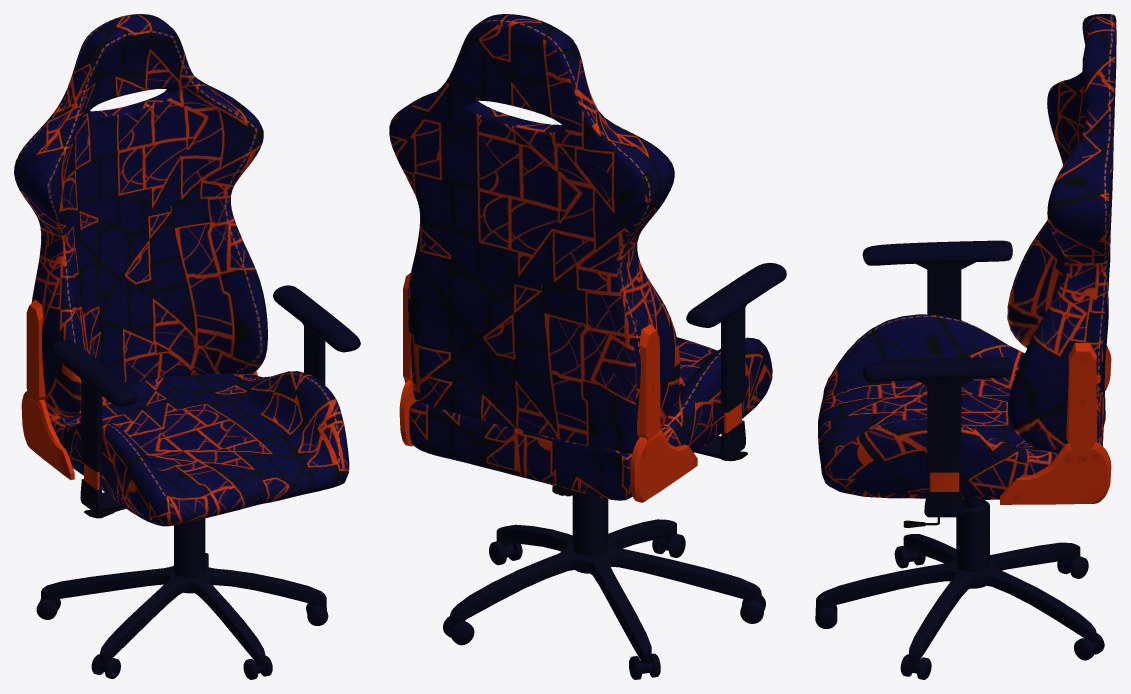
Rendered from pc_chair.glb.
3 renders of one model, left to right at view 1: azimuth 30°, elevation 25°; view 2: azimuth 150°, elevation 25°; view 3: azimuth 270°, elevation 25°, orthographic. The views are drawn at different scales.
Parts seen in each view (by area): view 1: Plane, Plane.001, Cylinder.001, Plane.008, Cube, Plane.002, Cylinder.004, Cylinder, Plane.006; view 2: Plane, Plane.001, Cylinder.001, Plane.002, Cube, Plane.006, Cylinder.004, Plane.008, Cylinder; view 3: Plane, Plane.001, Cylinder.001, Cube, Plane.008, Plane.002, Plane.006, Cylinder.004, Cylinder.
Boxes of the visible parts, x1,y1,x2,y2 form: Plane: (14, 14, 267, 418); Plane.001: (48, 371, 349, 526); Cylinder.001: (41, 565, 326, 665); Plane.008: (50, 285, 360, 406); Cube: (80, 323, 325, 514); Plane.002: (21, 371, 257, 479); Cylinder.004: (36, 553, 328, 679); Cylinder: (174, 518, 205, 593); Plane.006: (26, 299, 45, 401); Plane: (389, 14, 680, 453); Plane.001: (409, 337, 772, 500); Cylinder.001: (450, 519, 761, 663); Plane.002: (399, 380, 697, 502); Cube: (694, 305, 746, 460); Plane.006: (403, 273, 660, 441); Cylinder.004: (443, 534, 765, 679); Plane.008: (686, 262, 786, 327); Cylinder: (572, 492, 608, 573); Plane: (1007, 14, 1116, 452); Plane.001: (818, 314, 1102, 499); Cylinder.001: (816, 534, 1096, 664); Cube: (916, 262, 975, 517); Plane.008: (862, 240, 1012, 382); Plane.002: (1000, 345, 1111, 504); Plane.006: (1066, 342, 1096, 464); Cylinder.004: (815, 546, 1104, 679); Cylinder: (956, 499, 989, 588).
Size of the model in its own units: 176 by 380 by 172.
15 materials, 6 textured.
